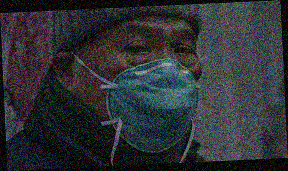with_mask: (77, 20, 202, 136)
